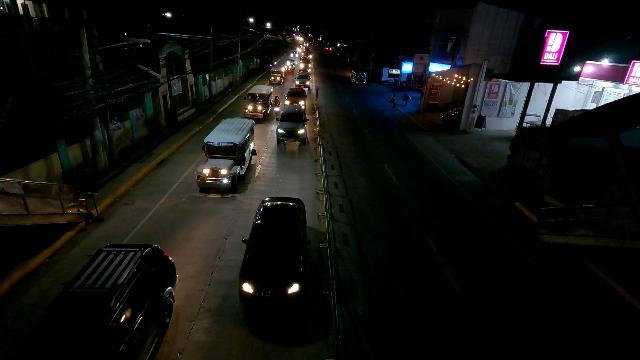car: (284, 87, 308, 110), (295, 72, 311, 91)
jeepney: (193, 116, 255, 194), (243, 84, 274, 120), (268, 66, 286, 84), (350, 69, 366, 84)
motorcycle: (273, 96, 281, 116)
van: (273, 104, 310, 143)
